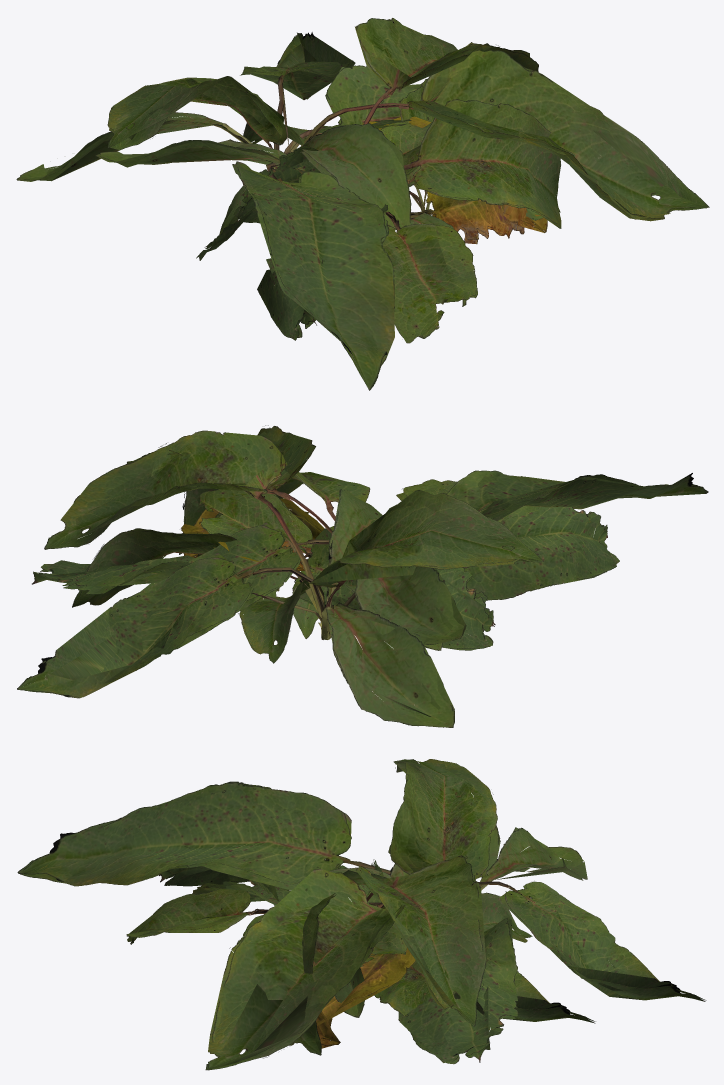
The model's file is weed_plant_02.glb.
3 views of the same model, one above another, from view 1: azimuth 30°, elevation 25°; view 2: azimuth 150°, elevation 25°; view 3: azimuth 270°, elevation 25° (orthographic). The views are drawn at different scales.
Parts seen in each view (by area): view 1: weed_plant_02_v0_far, weed_plant_02_v0_near, weed_plant_02_v1_far, weed_plant_02_v1_near, weed_plant_02_v2_near, weed_plant_02_v2_far, weed_plant_02_v4_far, weed_plant_02_v3_far, weed_plant_02_v3_near, weed_plant_02_v4_near; view 2: weed_plant_02_v0_near, weed_plant_02_v0_far, weed_plant_02_v1_near, weed_plant_02_v1_far, weed_plant_02_v2_near, weed_plant_02_v3_far, weed_plant_02_v3_near, weed_plant_02_v2_far, weed_plant_02_v4_near, weed_plant_02_v4_far; view 3: weed_plant_02_v0_far, weed_plant_02_v0_near, weed_plant_02_v1_far, weed_plant_02_v1_near, weed_plant_02_v2_near, weed_plant_02_v2_far, weed_plant_02_v3_near, weed_plant_02_v3_far.
Boxes of the visible parts, <box> form: weed_plant_02_v0_far: <box>16,32,709,390</box>; weed_plant_02_v0_near: <box>17,32,706,390</box>; weed_plant_02_v1_far: <box>95,19,529,343</box>; weed_plant_02_v1_near: <box>95,18,538,338</box>; weed_plant_02_v2_near: <box>219,99,560,328</box>; weed_plant_02_v2_far: <box>221,99,561,328</box>; weed_plant_02_v4_far: <box>233,145,543,222</box>; weed_plant_02_v3_far: <box>196,78,453,258</box>; weed_plant_02_v3_near: <box>199,79,474,260</box>; weed_plant_02_v4_near: <box>237,148,542,223</box>; weed_plant_02_v0_near: <box>17,425,706,727</box>; weed_plant_02_v0_far: <box>17,427,708,727</box>; weed_plant_02_v1_near: <box>44,435,616,642</box>; weed_plant_02_v1_far: <box>44,430,619,644</box>; weed_plant_02_v2_near: <box>179,462,467,662</box>; weed_plant_02_v3_far: <box>72,513,494,650</box>; weed_plant_02_v3_near: <box>72,512,495,648</box>; weed_plant_02_v2_far: <box>179,472,463,663</box>; weed_plant_02_v4_near: <box>266,526,444,606</box>; weed_plant_02_v4_far: <box>266,528,361,609</box>; weed_plant_02_v0_far: <box>17,759,706,1070</box>; weed_plant_02_v0_near: <box>19,759,705,1070</box>; weed_plant_02_v1_far: <box>127,830,595,1048</box>; weed_plant_02_v1_near: <box>126,825,595,1045</box>; weed_plant_02_v2_near: <box>192,881,531,1054</box>; weed_plant_02_v2_far: <box>193,883,532,1055</box>; weed_plant_02_v3_near: <box>335,884,489,1044</box>; weed_plant_02_v3_far: <box>335,865,490,1053</box>.
Bounding box in the file's own units: 0.2198 × 0.0736 × 0.2919.
2 materials, 2 textured.
